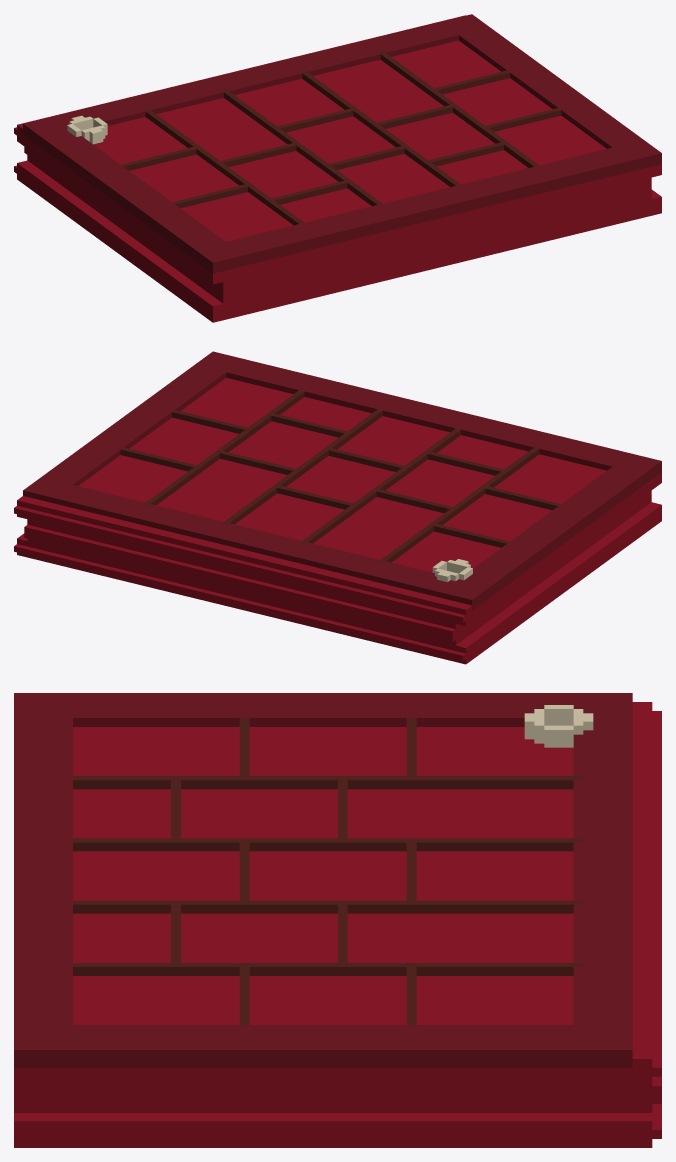
The model's file is samghati.glb.
3 renders of one model, top to bottom at view 1: azimuth 30°, elevation 25°; view 2: azimuth 150°, elevation 25°; view 3: azimuth 270°, elevation 25°, orthographic. The views are drawn at different scales.
Visible parts, largest first — view 1: samghati:compound; view 2: samghati:compound; view 3: samghati:compound.
Part boxes in pixels (bbox=[...]): samghati:compound: bbox=[14, 14, 661, 322]; samghati:compound: bbox=[14, 351, 661, 664]; samghati:compound: bbox=[14, 693, 661, 1147].
Bounding box in the file's own units: 0.344 × 0.048 × 0.264.
